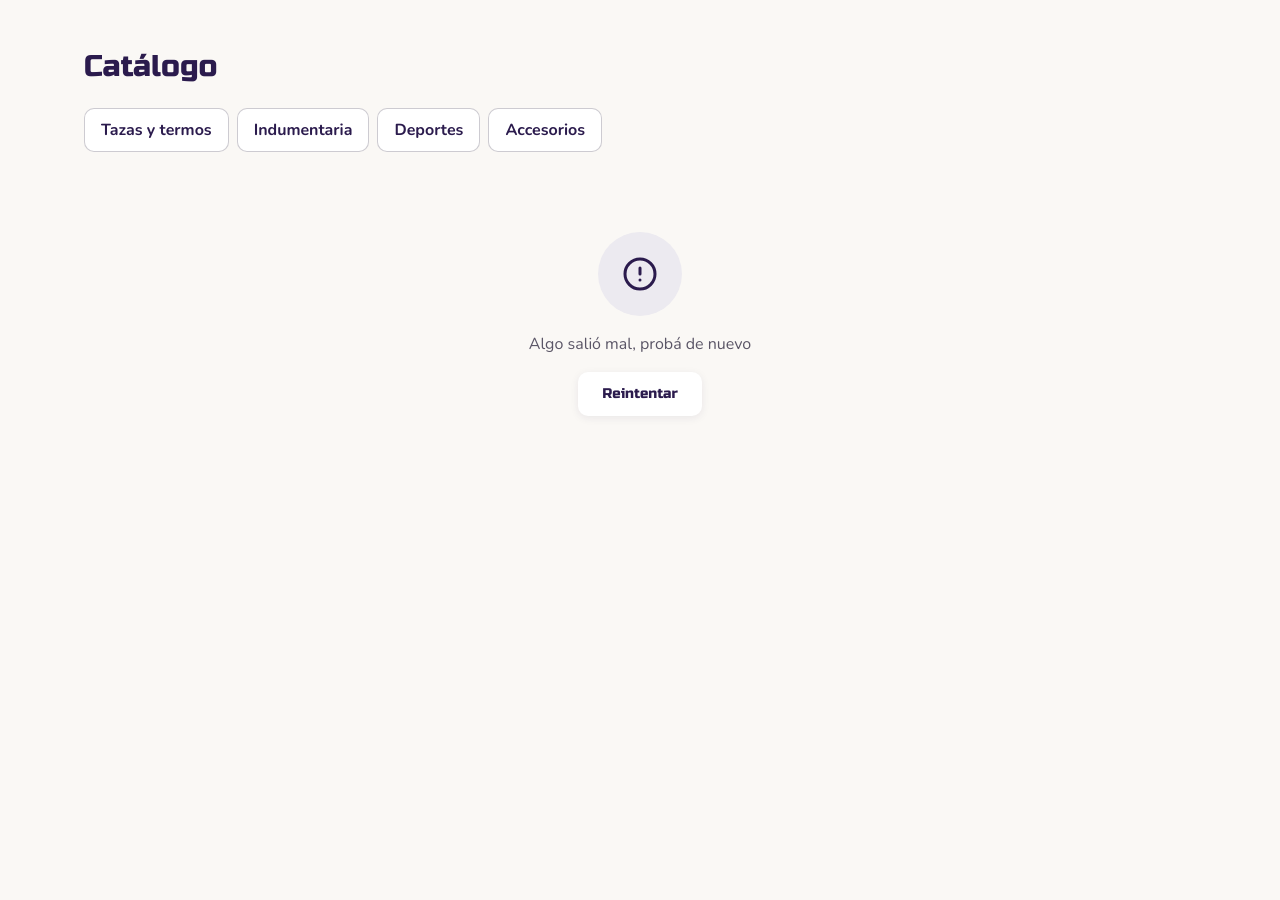
Catálogo · estado de error (R17) › R17 · si la API falla, muestra el error y "Reintentar" vuelve a pedir los productos
The width and height of the screenshot is (1280, 900).
Expected: the text "Algo salió mal, probá de nuevo" is shown, [529, 332, 751, 356]
Click the button "Reintentar": (640, 394) [578, 372, 702, 416]
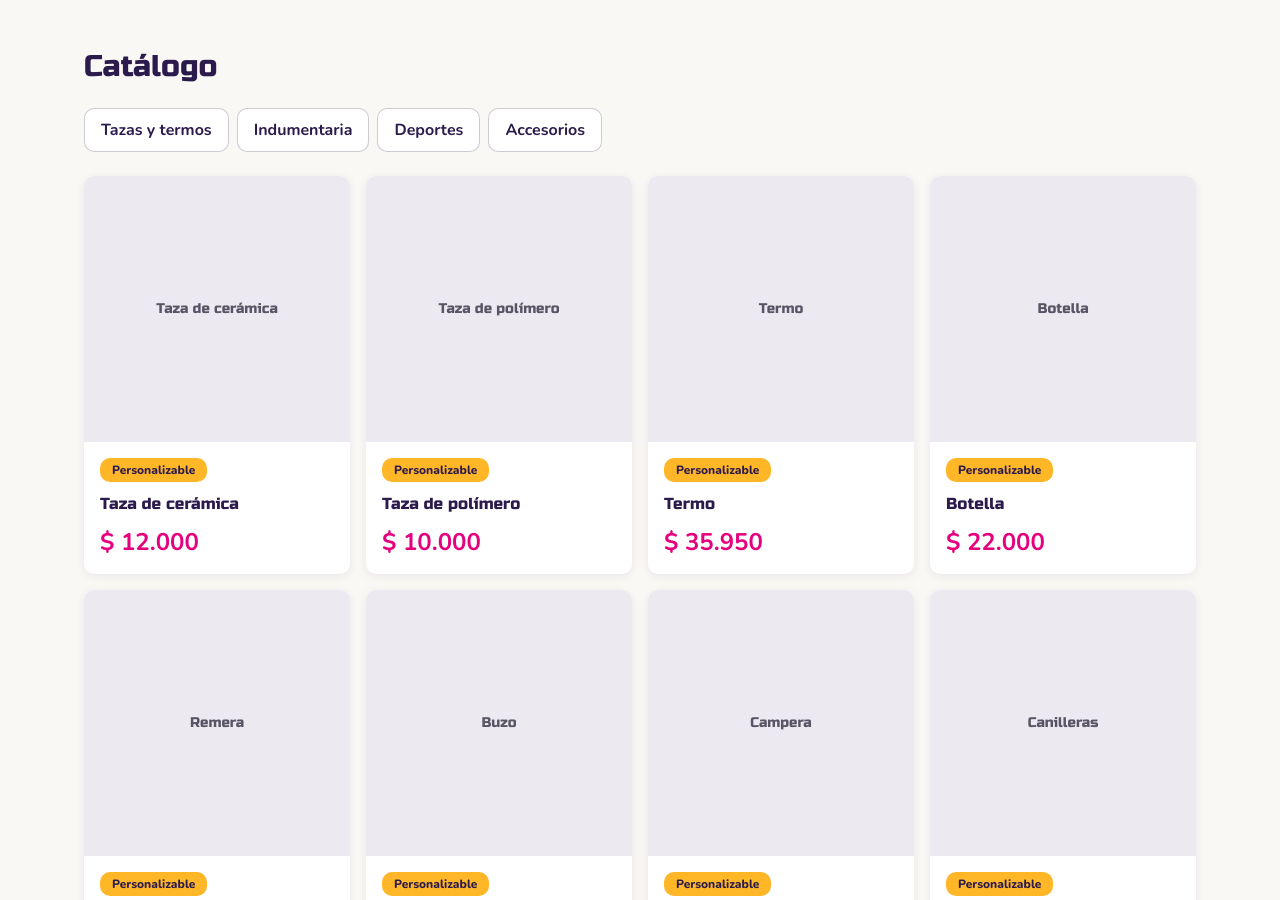
Now the link "Taza de cerámica Personalizable Taza de cerámica $ 12.000" is shown, box [84, 176, 350, 574]
Now the message "Algo salió mal, probá de nuevo Reintentar" is gone
